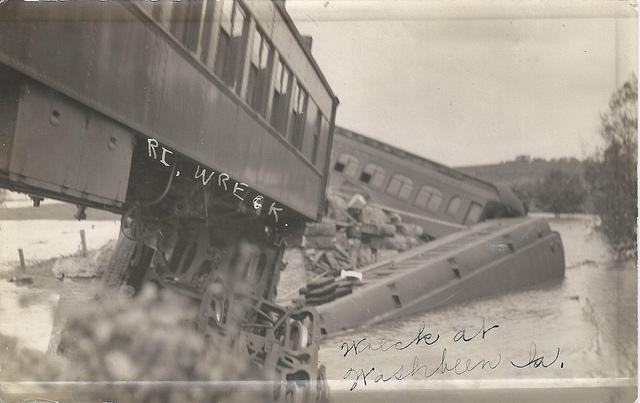Train: (0, 3, 341, 378), (314, 125, 532, 242)
